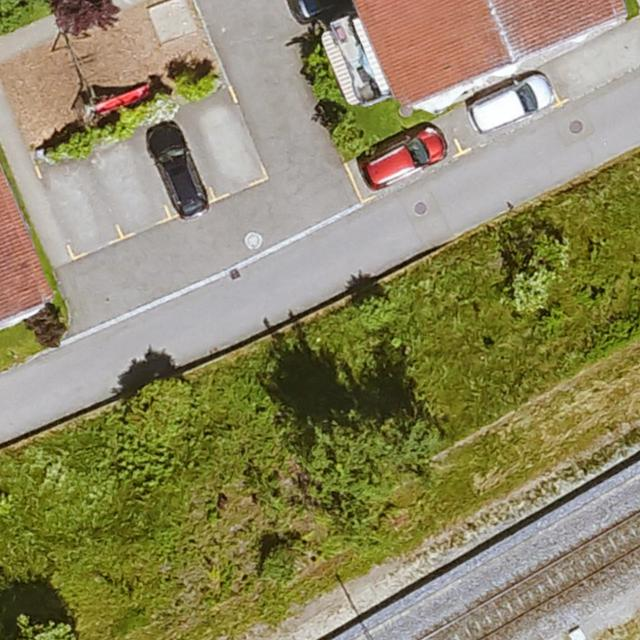tree: (302, 409, 433, 513), (45, 0, 119, 35)
